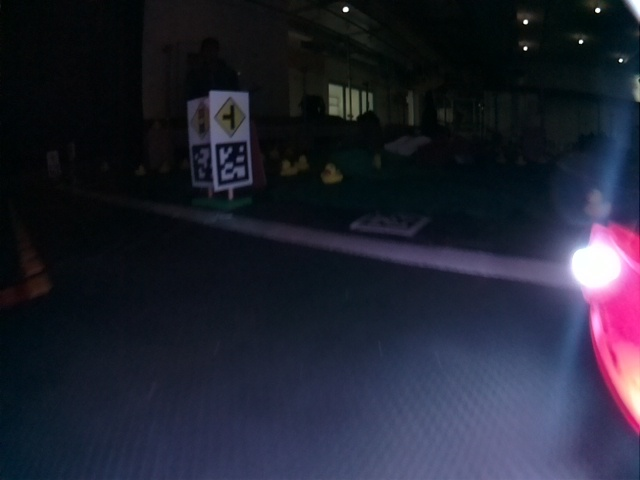Duckie: (321, 165, 343, 184), (279, 164, 296, 177), (296, 156, 308, 169), (159, 163, 169, 171)
Duckiebot: (582, 218, 640, 442)
Intersection sign: (217, 96, 247, 135)
QR code: (352, 209, 428, 239), (219, 140, 250, 186), (192, 143, 212, 183)
Signal sign: (189, 102, 209, 138)
